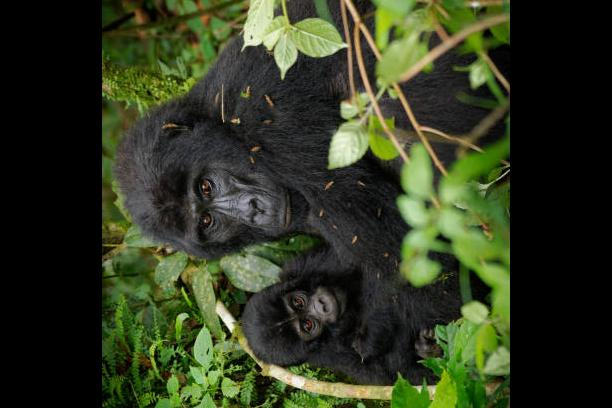goriile_montagne: (102, 0, 489, 272), (203, 237, 476, 408)
